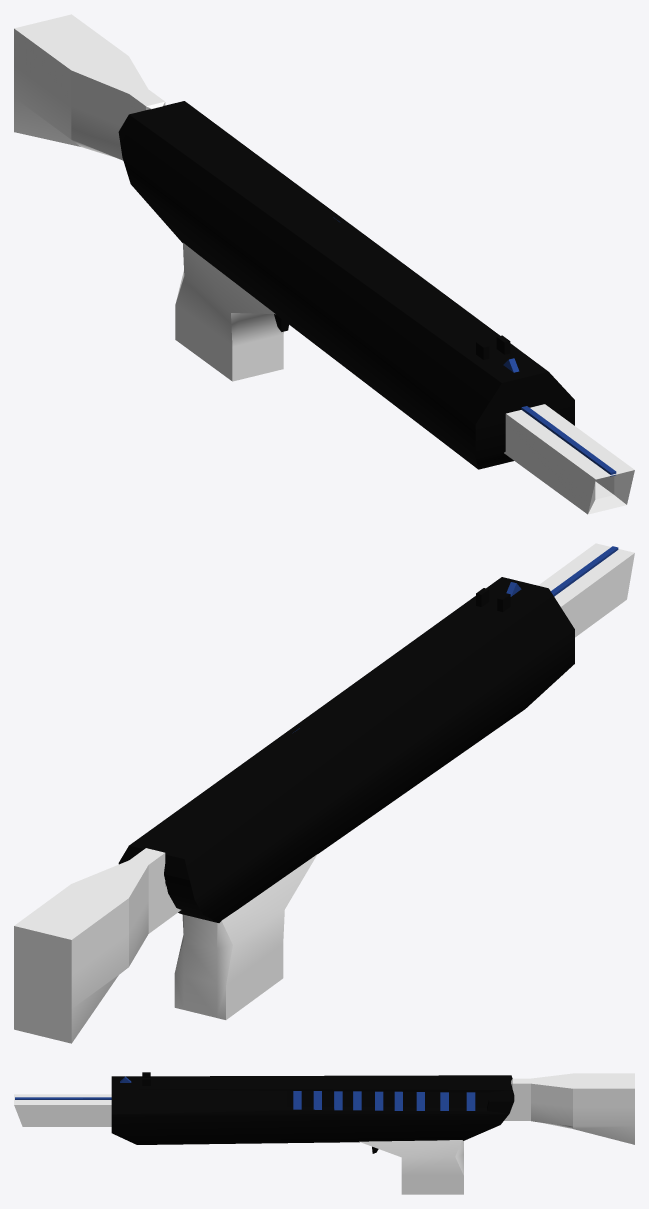
File: tbexport.fbx
The picture shows the model from 3 angles, top to bottom: view 1: azimuth 30°, elevation 25°; view 2: azimuth 150°, elevation 25°; view 3: azimuth 270°, elevation 25°; orthographic projection. The views are drawn at different scales.
Visible parts, largest first — view 1: pCube1, pCube7, pCube6, pCube2, pCube 5; view 2: pCube1, pCube7, pCube6, pCube2; view 3: pCube1, pCube7, pCube6, pCube2, pCube 5.
Boxes of the visible parts, x1,y1,x2,y2 form: pCube1: [118, 101, 574, 469]; pCube7: [14, 14, 165, 160]; pCube6: [175, 243, 283, 381]; pCube2: [504, 404, 634, 514]; pCube 5: [521, 406, 616, 476]; pCube1: [118, 577, 574, 922]; pCube7: [14, 848, 180, 1043]; pCube6: [174, 854, 317, 1019]; pCube2: [538, 543, 634, 637]; pCube1: [111, 1075, 514, 1144]; pCube7: [504, 1073, 634, 1144]; pCube6: [359, 1140, 463, 1194]; pCube2: [14, 1094, 111, 1126]; pCube 5: [15, 1097, 111, 1099].
Size of the model in its own units: 1 by 1.99 by 10.01.
